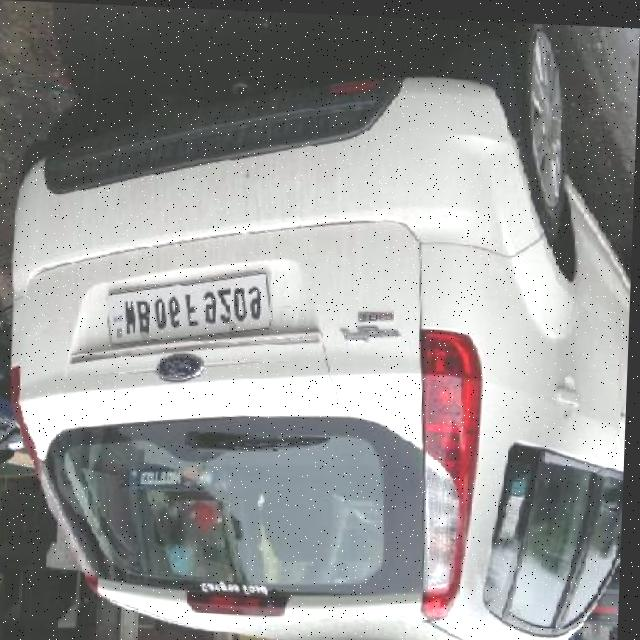plate: (106, 249, 276, 353)
